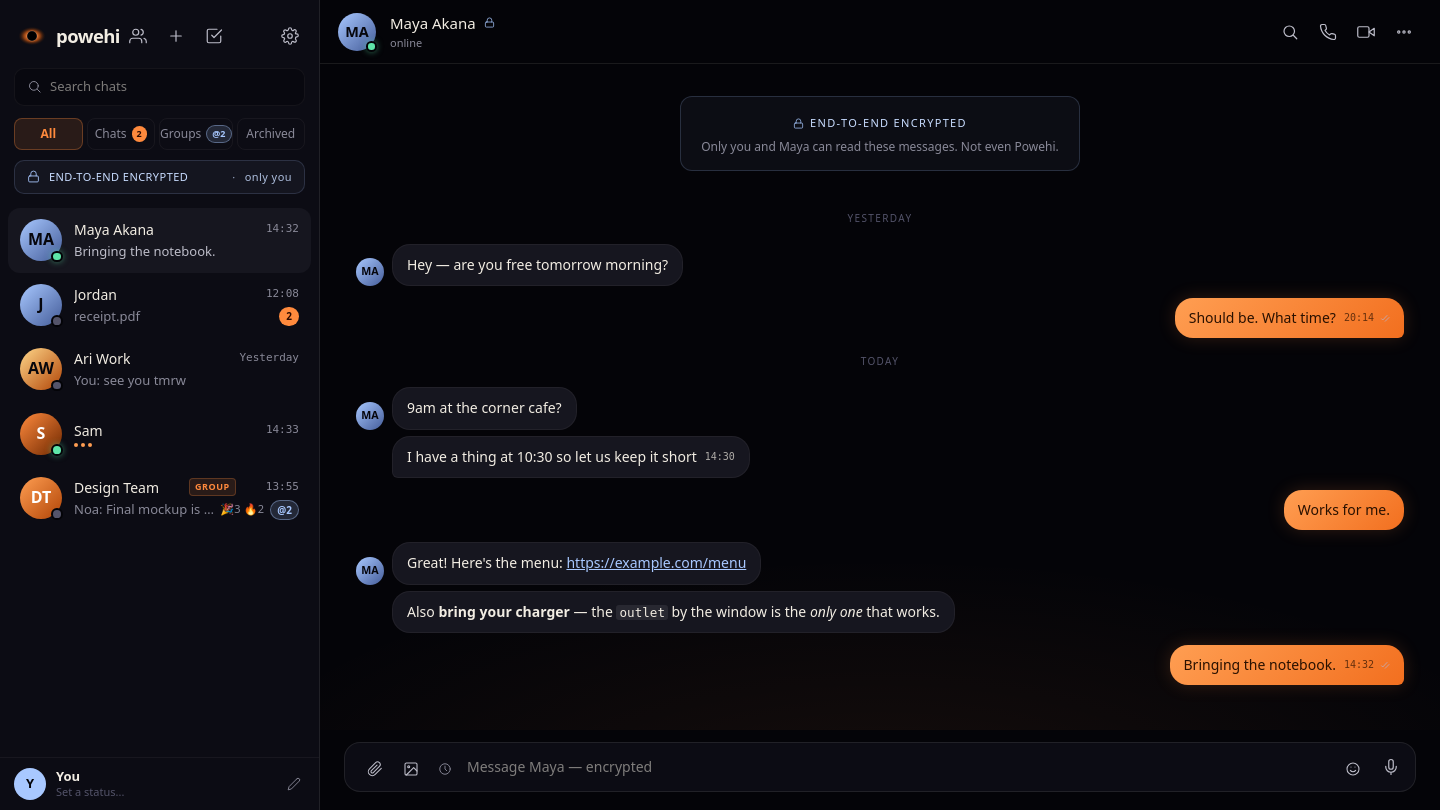
Test case: ChatLayout — voice messages › shows an inline error and does not crash when microphone permission is denied
The width and height of the screenshot is (1440, 810).
Step 1. Click the button named "Voice" → (1391, 767), box x1=1373 y1=749 x2=1409 y2=785
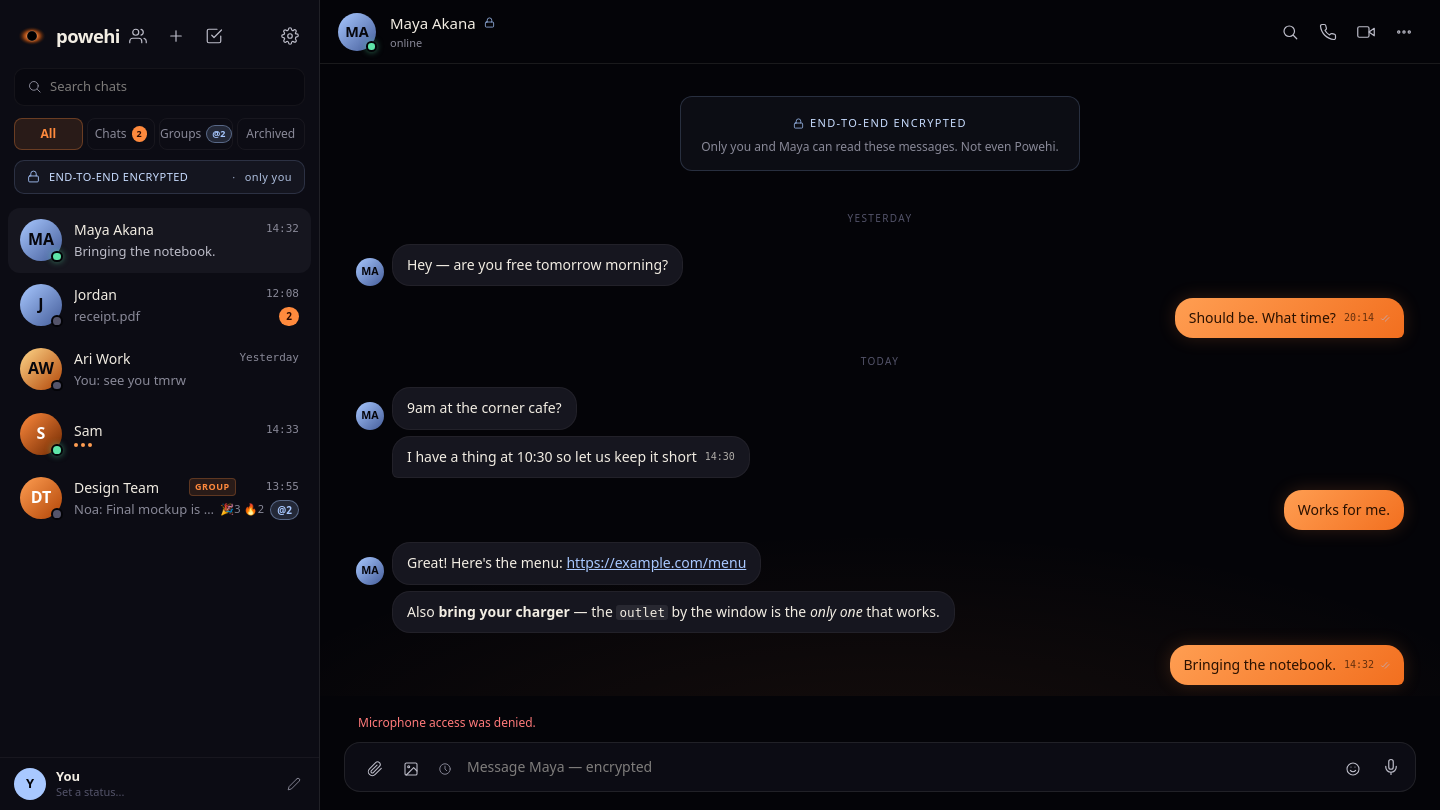
Result: the text "Microphone access was denied." is shown at x1=358 y1=714 x2=536 y2=731
